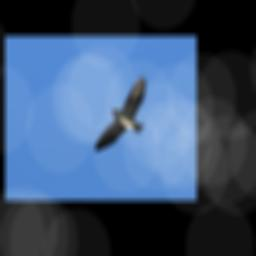Swallow: (97, 76, 148, 153)
